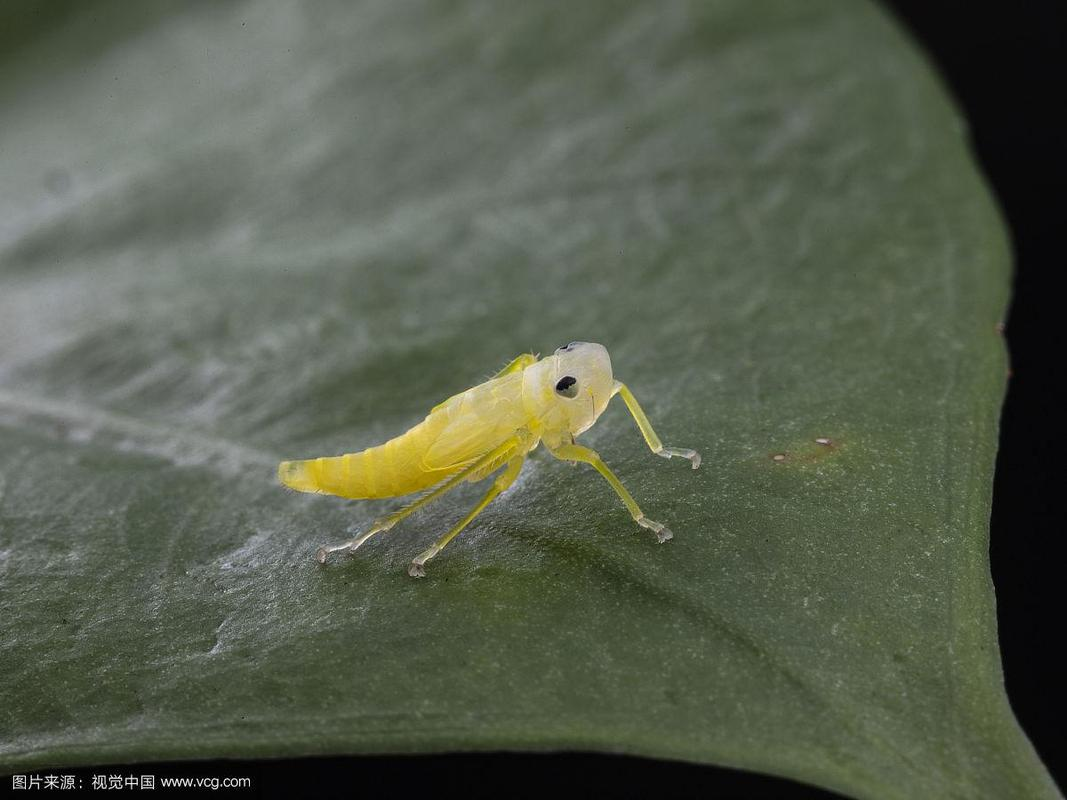Cicadellidae: (277, 342, 701, 556)
